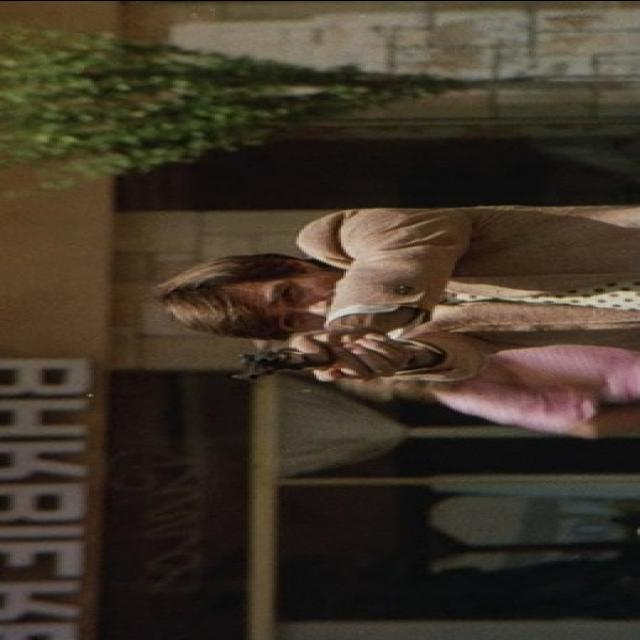weapons: (206, 342, 387, 392)
